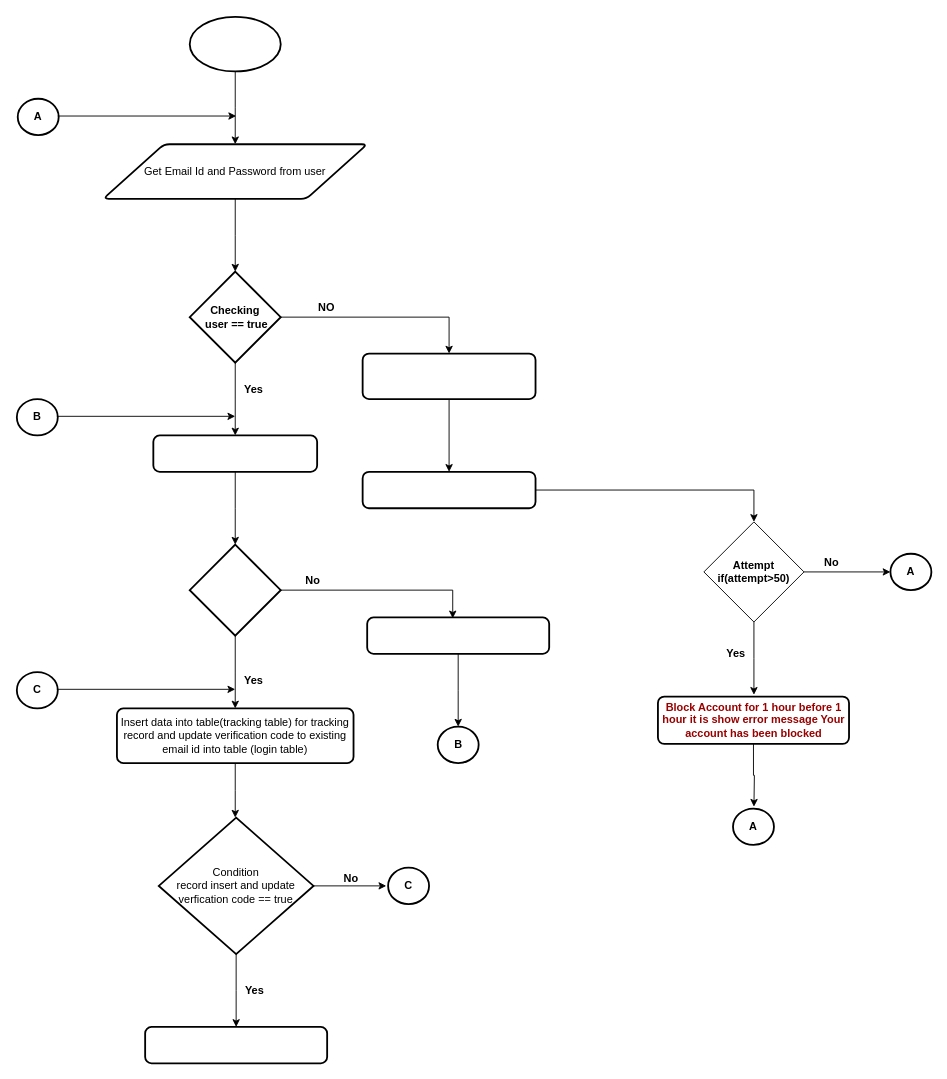
Some shapes in this 947 by 1079 pixel diagram are drawn without their labels. The shapes that lost their labels are listed below. From the top down, each one's centre as x and y in pixels, then its label:
At point 234,43: "Login".
At point 448,375: "Show message(Email id or Password Does not Match)".
At point 235,453: "Send Authentication code to email ID".
At point 448,489: "Attempt = Attempt + 1".
At point 234,589: "Checking Mail send == true".
At point 458,635: "Resend mail and update in database authentication code".
At point 236,1045: "Redirect to Verification page with session ( email id )".
